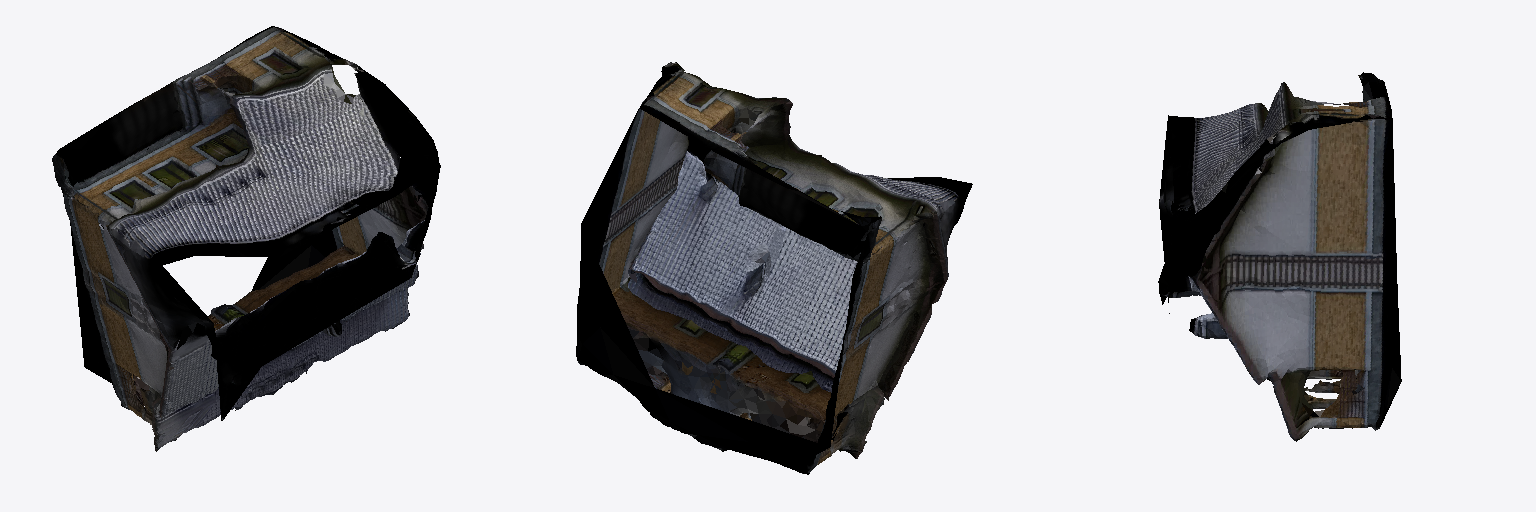
The picture shows the model from 3 angles: view 1: azimuth 30°, elevation 25°; view 2: azimuth 150°, elevation 25°; view 3: azimuth 270°, elevation 25°; orthographic projection.
Parts seen in each view (by area): view 1: Group_Global; view 2: Group_Global; view 3: Group_Global.
Boxes of the visible parts, x1,y1,x2,y2 form: Group_Global: [52, 26, 440, 451]; Group_Global: [576, 62, 972, 474]; Group_Global: [1158, 72, 1401, 441].
Bounding box in the file's own units: 12.98 × 13.61 × 8.48.
Materials: 1 (1 with a texture image).